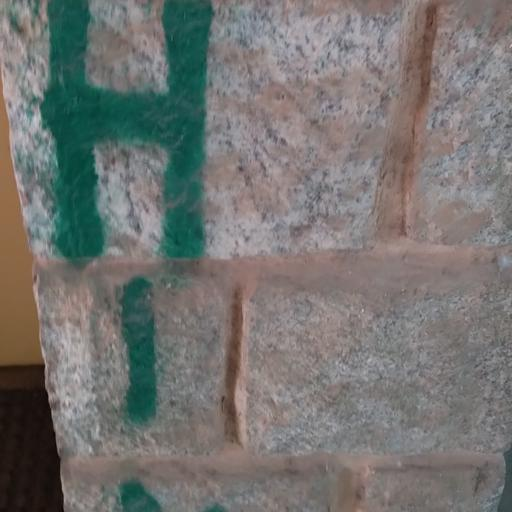stain: (21, 0, 279, 499)
